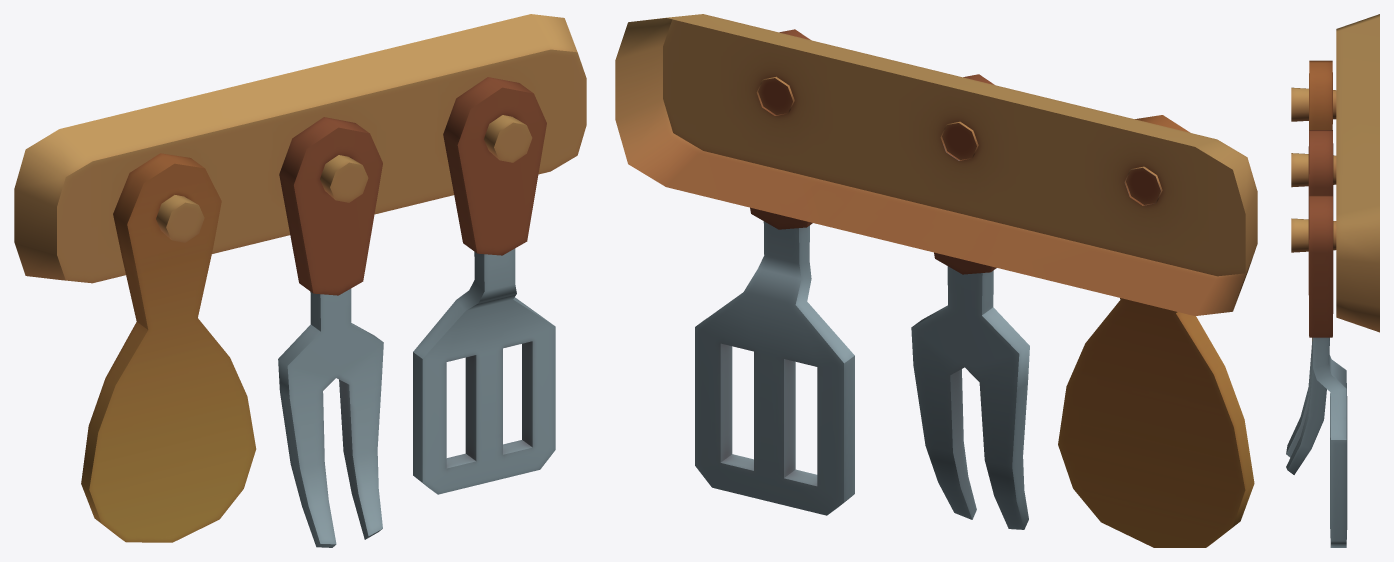
Rendered from spatula_01.fbx.
3 views of the same model, side by side, from view 1: azimuth 30°, elevation 25°; view 2: azimuth 150°, elevation 25°; view 3: azimuth 270°, elevation 25° (orthographic). The views are drawn at different scales.
Parts seen in each view (by area): view 1: spatula_01_ready; view 2: spatula_01_ready; view 3: spatula_01_ready.
Part boxes in pixels (x1,y1,x2,y2): spatula_01_ready: [14, 14, 586, 547]; spatula_01_ready: [615, 14, 1257, 547]; spatula_01_ready: [1286, 14, 1379, 547].
Size of the model in its own units: 63.07 by 46.51 by 11.17.
